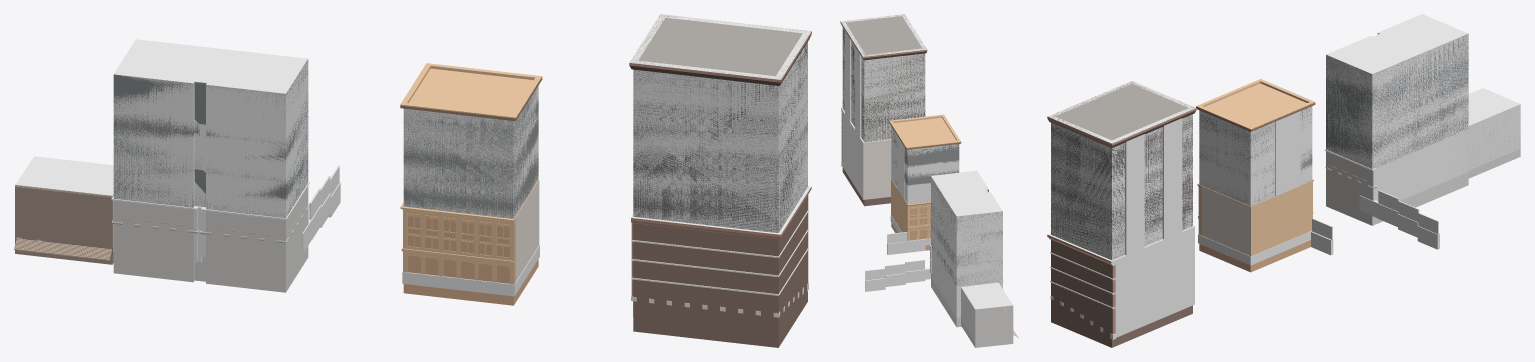
Rendered from city_block10.dae.
3 renders of one model, left to right at view 1: azimuth 30°, elevation 25°; view 2: azimuth 150°, elevation 25°; view 3: azimuth 270°, elevation 25°, orthographic. The views are drawn at different scales.
Visible parts, largest first — view 1: city_block10_a2000, city_block10_a350, city_block10_a700; view 2: city_block10_a2000, city_block10_a350, city_block10_a700; view 3: city_block10_a2000, city_block10_a350, city_block10_a700.
Boxes of the visible parts, x1,y1,x2,y2 form: city_block10_a2000: (14,14,811,317); city_block10_a350: (15,14,810,347); city_block10_a700: (400,35,811,121); city_block10_a2000: (840,14,1018,341); city_block10_a350: (842,14,1013,347); city_block10_a700: (841,24,961,149); city_block10_a2000: (1047,14,1520,339); city_block10_a350: (1048,34,1520,347); city_block10_a700: (1048,102,1315,148).
Size of the model in its own units: 140 by 135 by 64.74.
